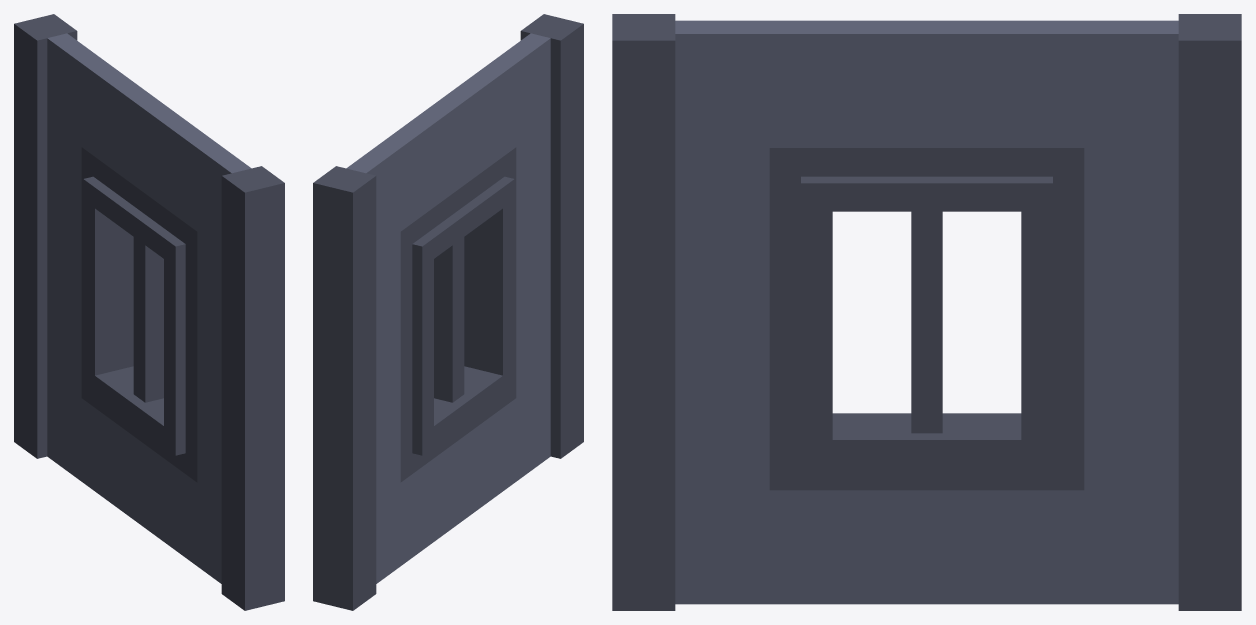
File: wall-wood-window-shutters.glb
The picture shows the model from 3 angles, left to right: view 1: azimuth 30°, elevation 25°; view 2: azimuth 150°, elevation 25°; view 3: azimuth 270°, elevation 25°; orthographic projection. The views are drawn at different scales.
Visible parts, largest first — view 1: wall-wood-window-shutters; view 2: wall-wood-window-shutters; view 3: wall-wood-window-shutters.
Part boxes in pixels (<box>): wall-wood-window-shutters: <box>14,14,284,610</box>; wall-wood-window-shutters: <box>313,14,583,610</box>; wall-wood-window-shutters: <box>612,14,1241,610</box>.
Size of the model in its own units: 0.1 by 1 by 1.
Materials: 1 (1 with a texture image).
